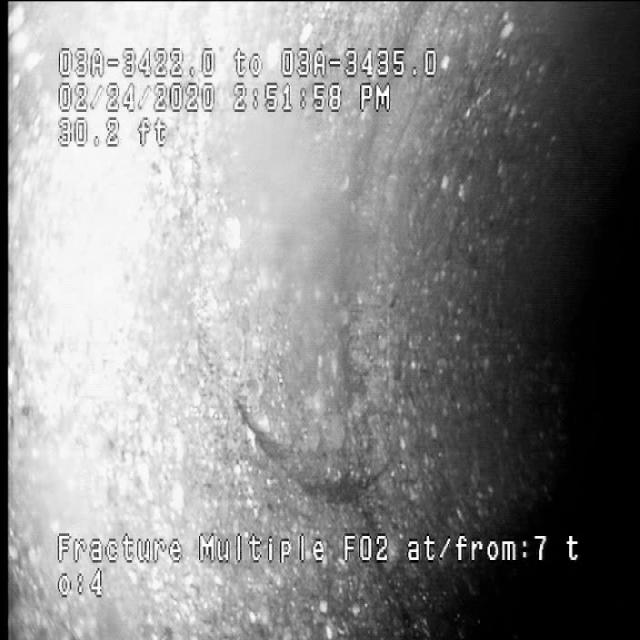Fracture: (197, 221, 429, 557)
